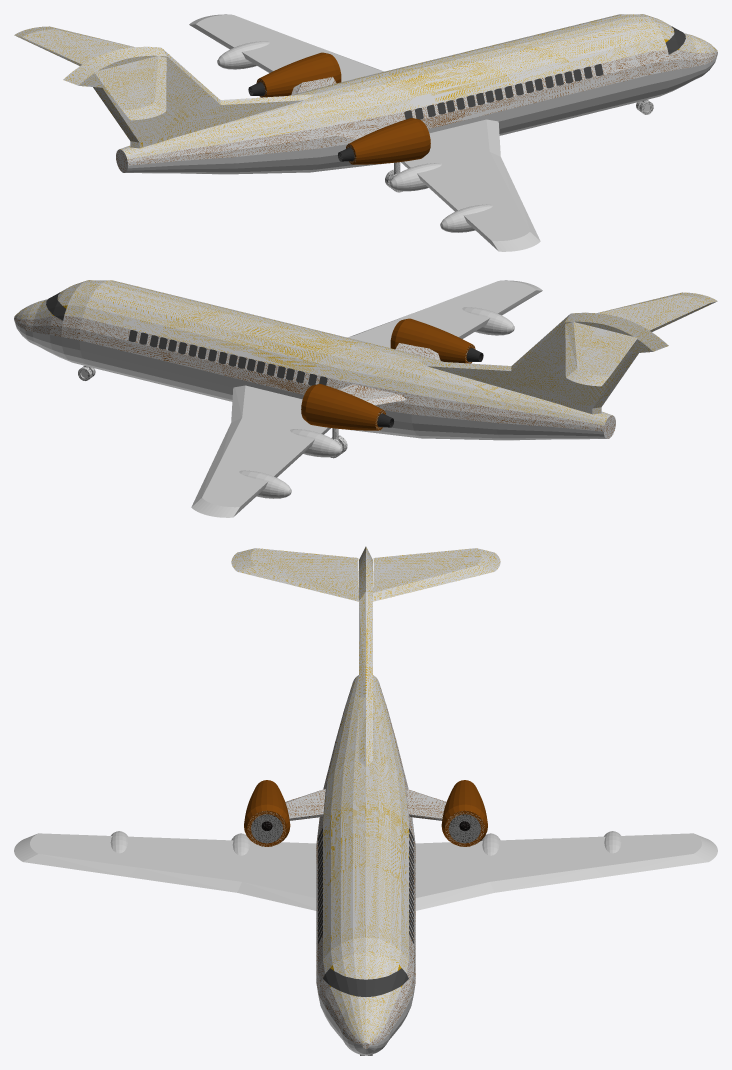
The picture shows the model from 3 angles, top to bottom: view 1: azimuth 30°, elevation 25°; view 2: azimuth 150°, elevation 25°; view 3: azimuth 270°, elevation 25°; orthographic projection. The views are drawn at different scales.
Visible parts, largest first — view 1: mesh13_mesh13-geometry, mesh2.001_mesh2-geometry, mesh7.001_mesh7-geometry, mesh3.001_mesh3-geometry, mesh4.001_mesh4-geometry, mesh9.001_mesh9-geometry, mesh8.001_mesh8-geometry, mesh1.003_mesh1-geometry, mesh6.004_mesh6-geometry, mesh5.001_mesh5-geometry, mesh1.004_mesh1-geometry; view 2: mesh13_mesh13-geometry, mesh7.001_mesh7-geometry, mesh2.001_mesh2-geometry, mesh8.001_mesh8-geometry, mesh9.001_mesh9-geometry, mesh4.001_mesh4-geometry, mesh3.001_mesh3-geometry, mesh6.003_mesh6-geometry, mesh1.004_mesh1-geometry, mesh10.001_mesh10-geometry, mesh6.004_mesh6-geometry; view 3: mesh13_mesh13-geometry, mesh7.001_mesh7-geometry, mesh2.001_mesh2-geometry, mesh8.001_mesh8-geometry, mesh3.001_mesh3-geometry, mesh9.001_mesh9-geometry, mesh4.001_mesh4-geometry, mesh10.001_mesh10-geometry, mesh5.001_mesh5-geometry.
Boxes of the visible parts, <box> form: mesh13_mesh13-geometry: <box>63,14,717,174</box>; mesh2.001_mesh2-geometry: <box>401,119,540,251</box>; mesh7.001_mesh7-geometry: <box>189,14,384,82</box>; mesh3.001_mesh3-geometry: <box>94,56,166,120</box>; mesh4.001_mesh4-geometry: <box>338,118,430,164</box>; mesh9.001_mesh9-geometry: <box>248,52,341,97</box>; mesh8.001_mesh8-geometry: <box>14,26,134,65</box>; mesh1.003_mesh1-geometry: <box>389,163,441,191</box>; mesh6.004_mesh6-geometry: <box>217,41,269,69</box>; mesh5.001_mesh5-geometry: <box>325,118,392,139</box>; mesh1.004_mesh1-geometry: <box>440,204,492,232</box>; mesh13_mesh13-geometry: <box>14,280,668,440</box>; mesh7.001_mesh7-geometry: <box>191,385,330,517</box>; mesh2.001_mesh2-geometry: <box>347,280,542,348</box>; mesh8.001_mesh8-geometry: <box>565,322,637,386</box>; mesh9.001_mesh9-geometry: <box>301,384,393,430</box>; mesh4.001_mesh4-geometry: <box>390,318,483,363</box>; mesh3.001_mesh3-geometry: <box>597,292,717,331</box>; mesh6.003_mesh6-geometry: <box>290,429,342,457</box>; mesh1.004_mesh1-geometry: <box>462,307,514,335</box>; mesh10.001_mesh10-geometry: <box>339,384,406,405</box>; mesh6.004_mesh6-geometry: <box>239,470,291,498</box>; mesh13_mesh13-geometry: <box>316,546,415,1055</box>; mesh7.001_mesh7-geometry: <box>415,833,717,910</box>; mesh2.001_mesh2-geometry: <box>14,833,316,910</box>; mesh8.001_mesh8-geometry: <box>373,548,500,601</box>; mesh3.001_mesh3-geometry: <box>231,548,358,601</box>; mesh9.001_mesh9-geometry: <box>441,780,487,846</box>; mesh4.001_mesh4-geometry: <box>244,780,290,846</box>; mesh10.001_mesh10-geometry: <box>406,789,446,820</box>; mesh5.001_mesh5-geometry: <box>285,789,325,820</box>.
Size of the model in its own units: 0.7475 by 0.2095 by 0.6304.
Materials: 10 (1 with a texture image).
